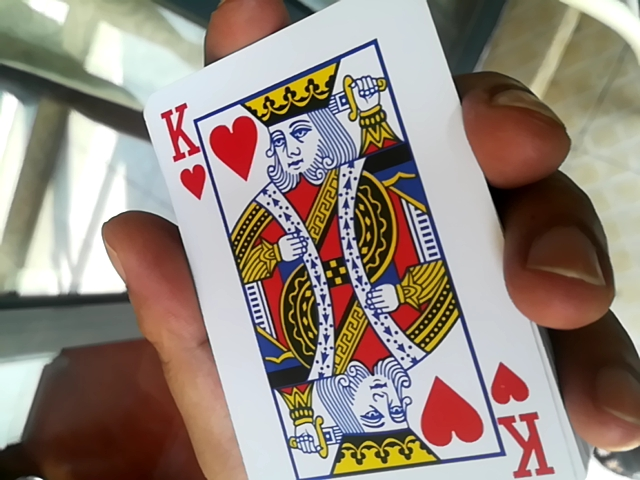hx k: (110, 6, 589, 475)
